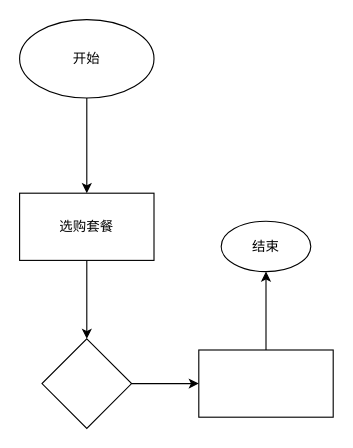
The diagram is 353 pixels wide and 448 high, and some of its shapes have lost their labels. The centre of each missing label's shape, as x and y in pixels:
"前端判断参数" goes at (x=86, y=383).
"返回错误信息" goes at (x=265, y=383).
